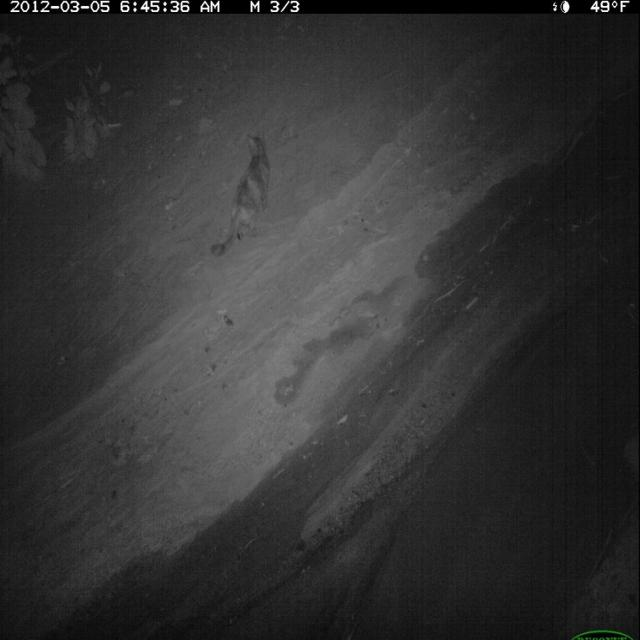cat: (207, 124, 275, 265)
